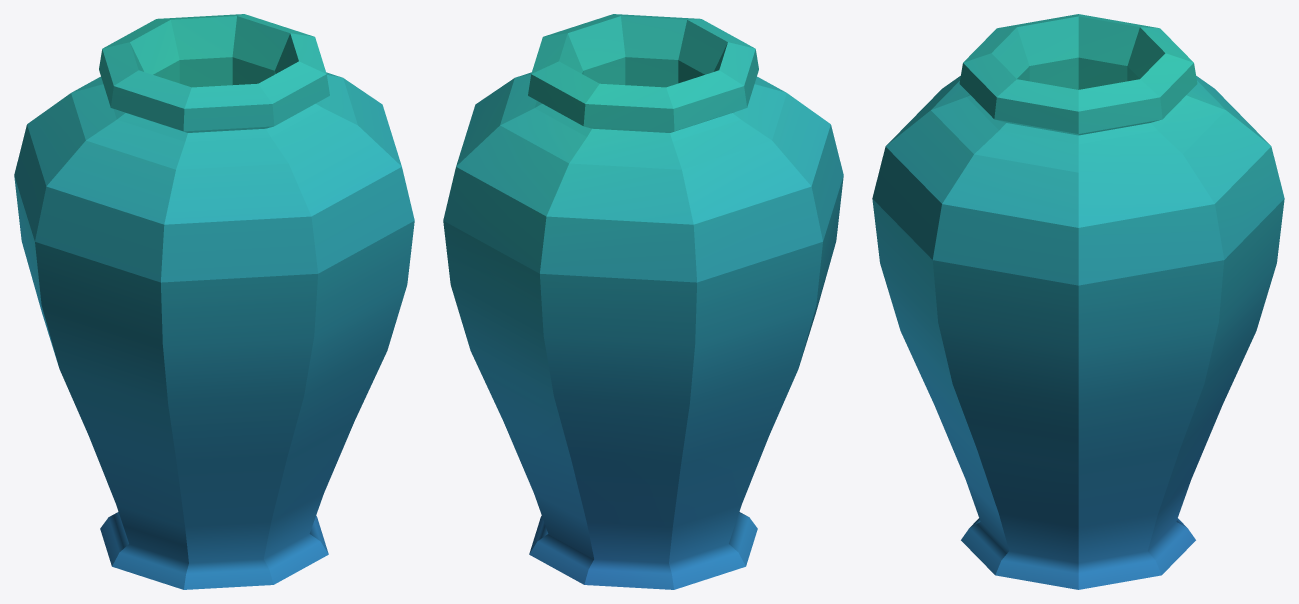
File: m_Urn02.fbx
3 views of the same model, side by side, from view 1: azimuth 30°, elevation 25°; view 2: azimuth 150°, elevation 25°; view 3: azimuth 270°, elevation 25° (orthographic).
Parts seen in each view (by area): view 1: urn_Skog; view 2: urn_Skog; view 3: urn_Skog.
Boxes of the visible parts, x1=… form: urn_Skog: x1=14, y1=14, x2=414, y2=589; urn_Skog: x1=443, y1=14, x2=843, y2=589; urn_Skog: x1=872, y1=14, x2=1284, y2=589.
Bounding box in the file's own units: 42.03 × 54.79 × 42.03.
